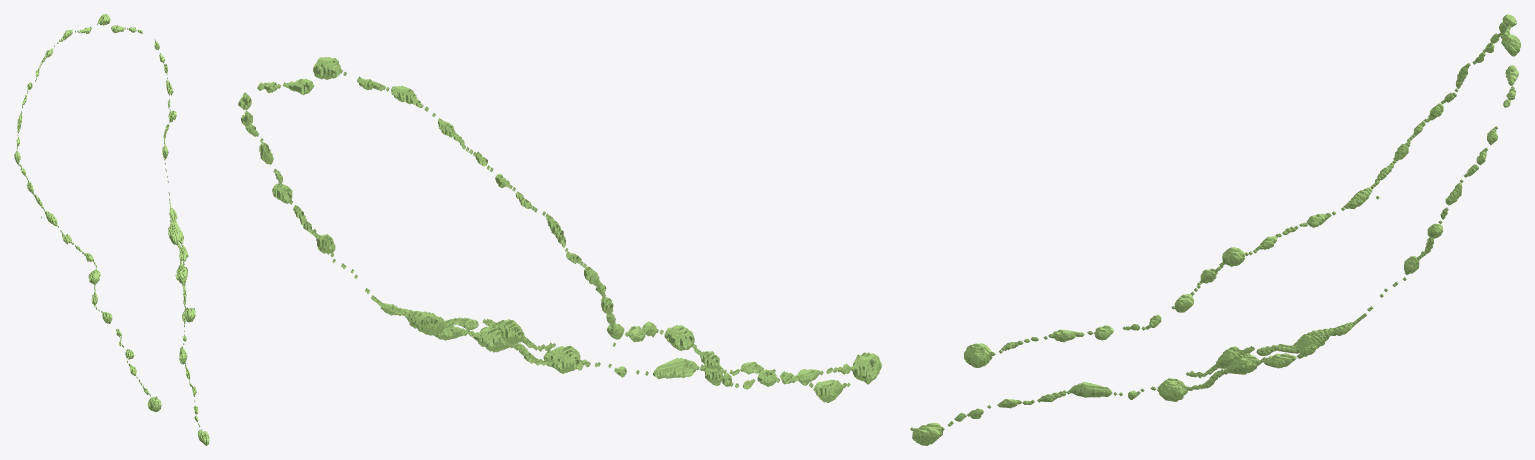
The model's file is SVV_PVNR.gltf.
3 renders of one model, left to right at view 1: azimuth 30°, elevation 25°; view 2: azimuth 150°, elevation 25°; view 3: azimuth 270°, elevation 25°, orthographic. The views are drawn at different scales.
Visible parts, largest first — view 1: PVNR; view 2: PVNR; view 3: PVNR.
Part boxes in pixels (bbox=[...]): PVNR: bbox=[14, 14, 209, 445]; PVNR: bbox=[238, 57, 881, 402]; PVNR: bbox=[910, 14, 1520, 445].
Bounding box in the file's own units: 96707 × 155682 × 183466.
